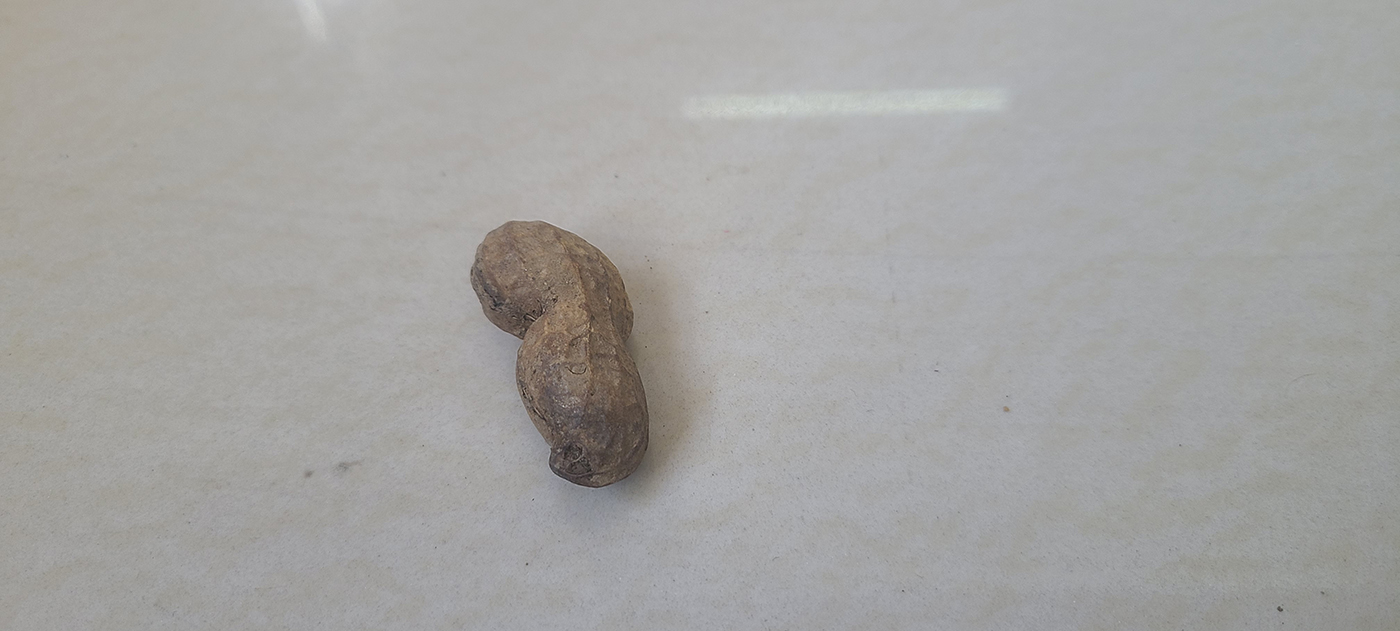l: (469, 219, 653, 489)
